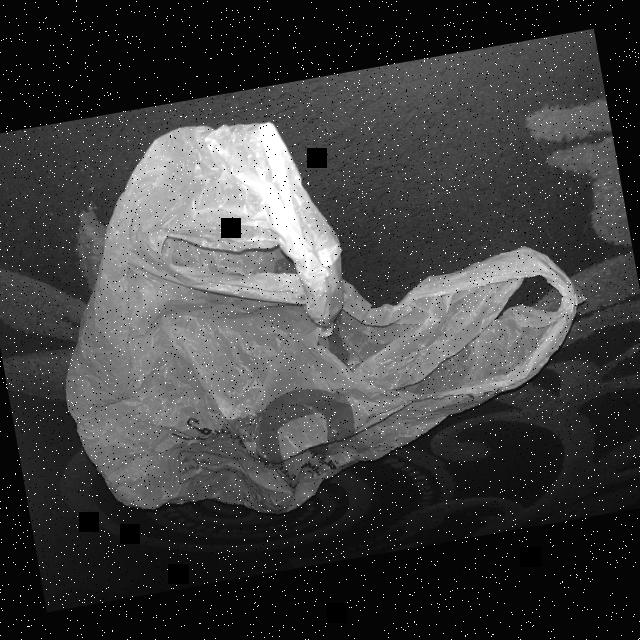plastic_bag: (14, 58, 618, 562)
